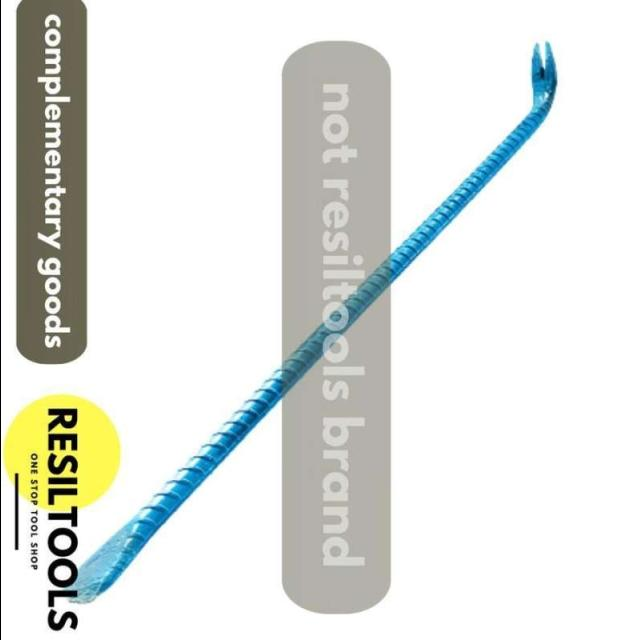Linggis: (64, 43, 560, 609)
